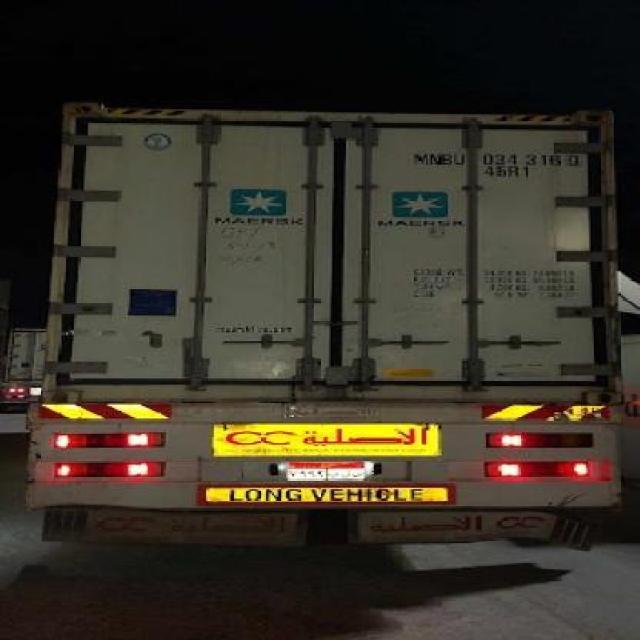ISO: (482, 168, 534, 180)
container_number: (410, 147, 587, 169)
